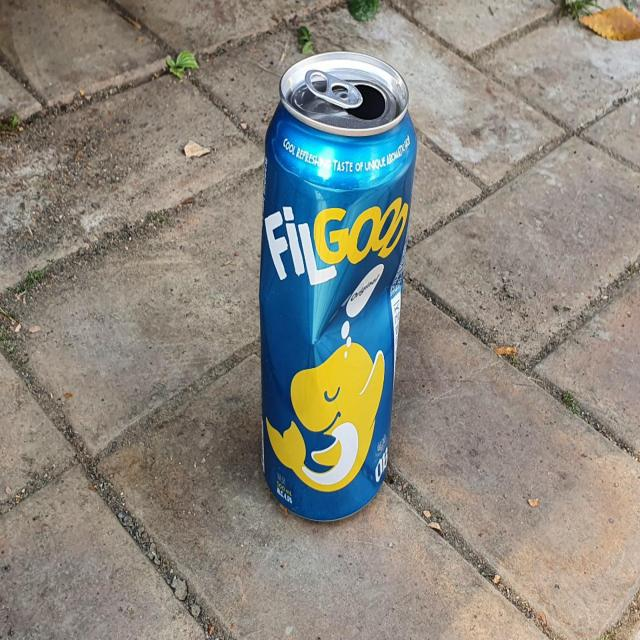can: (259, 51, 417, 522)
